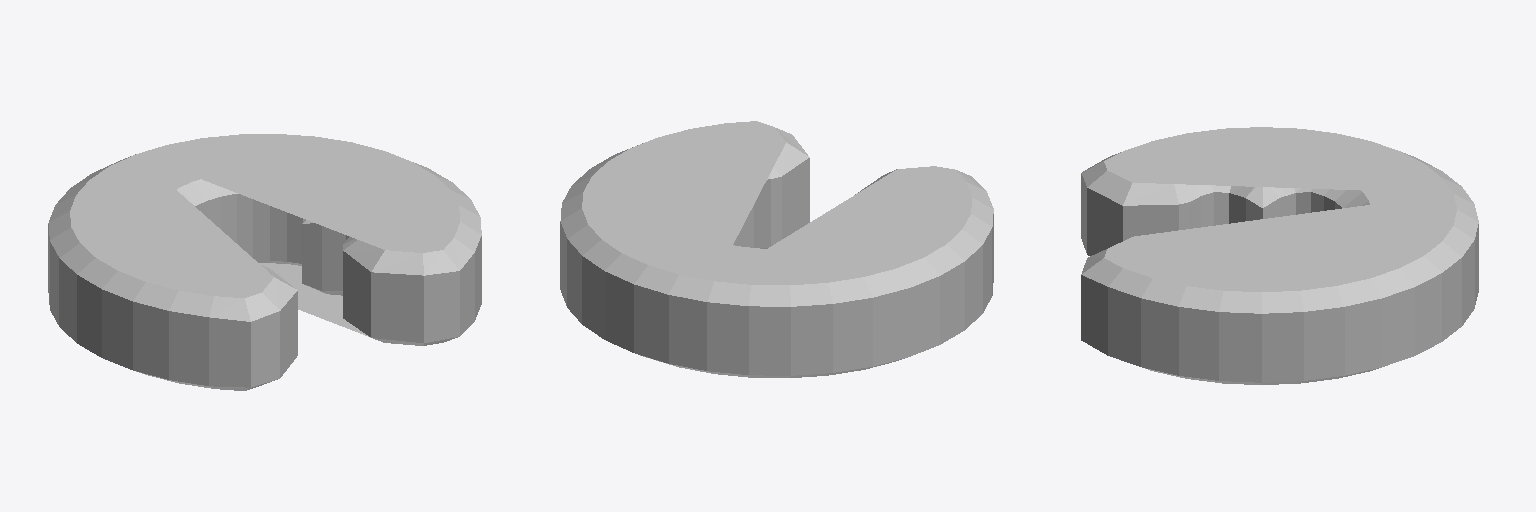
File: cue_v.obj
3 renders of one model, left to right at view 1: azimuth 30°, elevation 25°; view 2: azimuth 150°, elevation 25°; view 3: azimuth 270°, elevation 25°, orthographic.
Parts seen in each view (by area): view 1: Circle; view 2: Circle; view 3: Circle.
Boxes of the visible parts, x1=… form: Circle: x1=48, y1=134, x2=481, y2=390; Circle: x1=560, y1=121, x2=993, y2=377; Circle: x1=1081, y1=127, x2=1478, y2=384.
Size of the model in its own units: 2 by 0.4707 by 1.83.